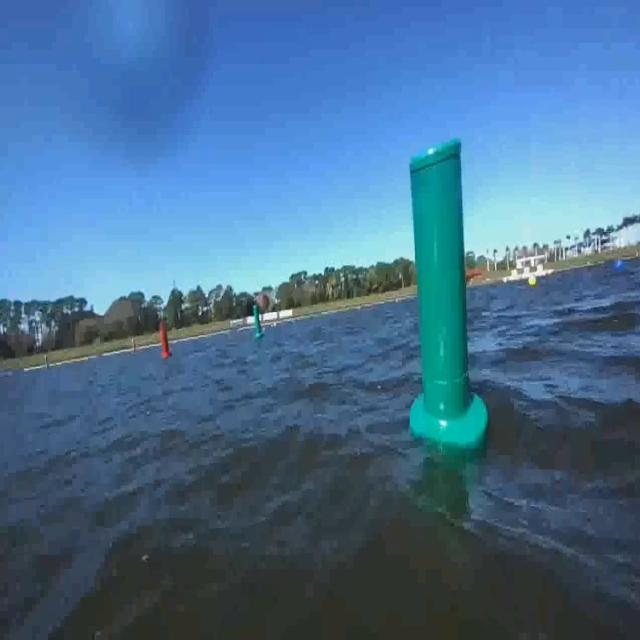green-column-buoy: (411, 138, 486, 454), (252, 301, 267, 338)
red-buoy: (158, 322, 173, 362)
red-column-buoy: (159, 323, 173, 358)
